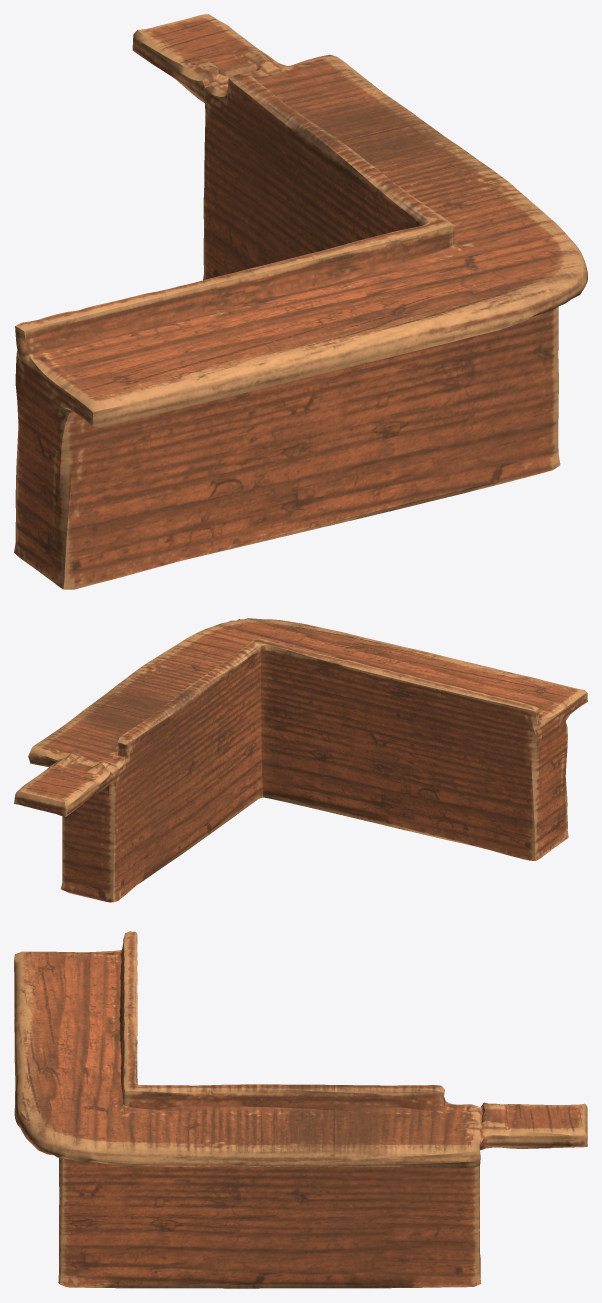
3 views of the same model, one above another, from view 1: azimuth 30°, elevation 25°; view 2: azimuth 150°, elevation 25°; view 3: azimuth 270°, elevation 25° (orthographic). The views are drawn at different scales.
Visible parts, largest first — view 1: benkstartlowpoly; view 2: benkstartlowpoly; view 3: benkstartlowpoly.
Part boxes in pixels (x1,y1,x2,y2): benkstartlowpoly: (14, 14, 587, 589); benkstartlowpoly: (14, 618, 587, 902); benkstartlowpoly: (14, 931, 587, 1288).
Size of the model in its own units: 289 by 119 by 345.
Materials: 1 (1 with a texture image).
